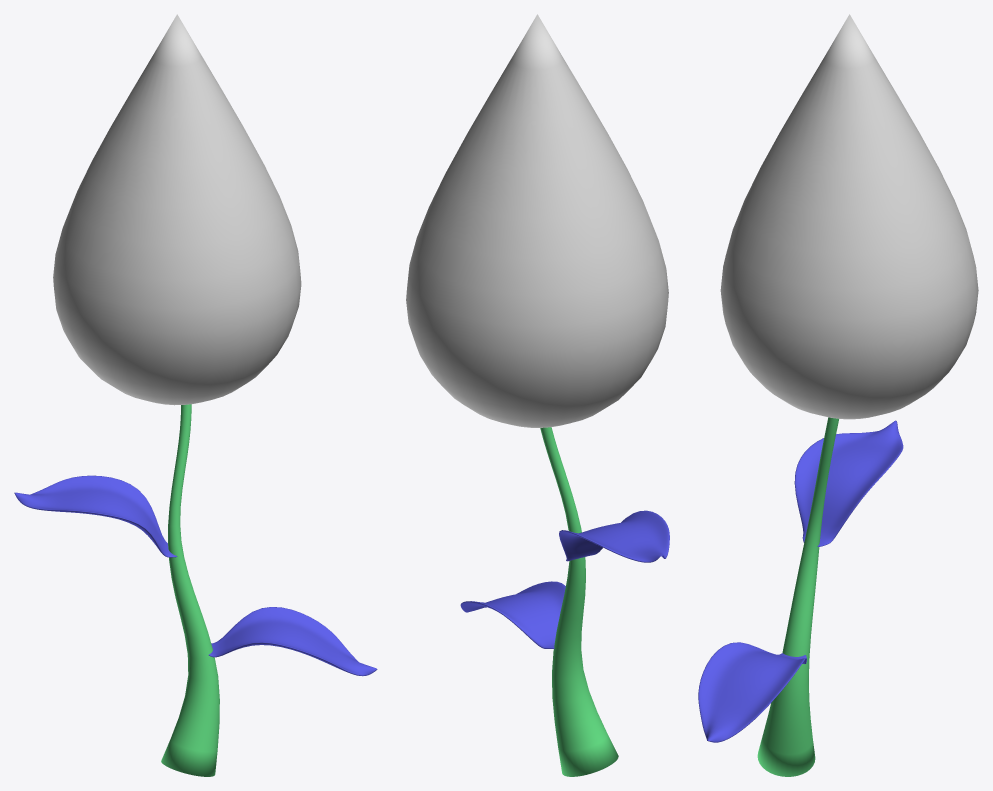
File: RainPlant#4.fbx
The picture shows the model from 3 angles, left to right: view 1: azimuth 30°, elevation 25°; view 2: azimuth 150°, elevation 25°; view 3: azimuth 270°, elevation 25°; orthographic projection. The views are drawn at different scales.
Parts seen in each view (by area): view 1: Sphere, Vert.005, Plane.004, Plane.007; view 2: Sphere, Vert.005, Plane.007, Plane.004; view 3: Sphere, Vert.005, Plane.004, Plane.007.
Part boxes in pixels (box(x1,y1,x2,y2)): Sphere: box(53, 14, 301, 405); Vert.005: box(161, 404, 219, 776); Plane.004: box(208, 607, 377, 676); Plane.007: box(14, 475, 177, 557); Sphere: box(406, 14, 668, 427); Vert.005: box(540, 427, 618, 776); Plane.007: box(559, 510, 669, 562); Plane.004: box(460, 581, 565, 648); Sphere: box(720, 14, 978, 419); Vert.005: box(757, 417, 838, 776); Plane.004: box(698, 642, 806, 742); Plane.007: box(794, 420, 903, 546).
Size of the model in its own units: 746 by 1920 by 640.
